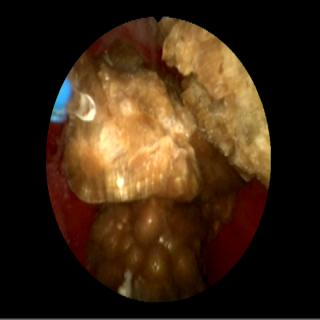fiber: (52, 81, 71, 121)
stone: (90, 132, 243, 298), (63, 39, 199, 206), (162, 24, 269, 186)
